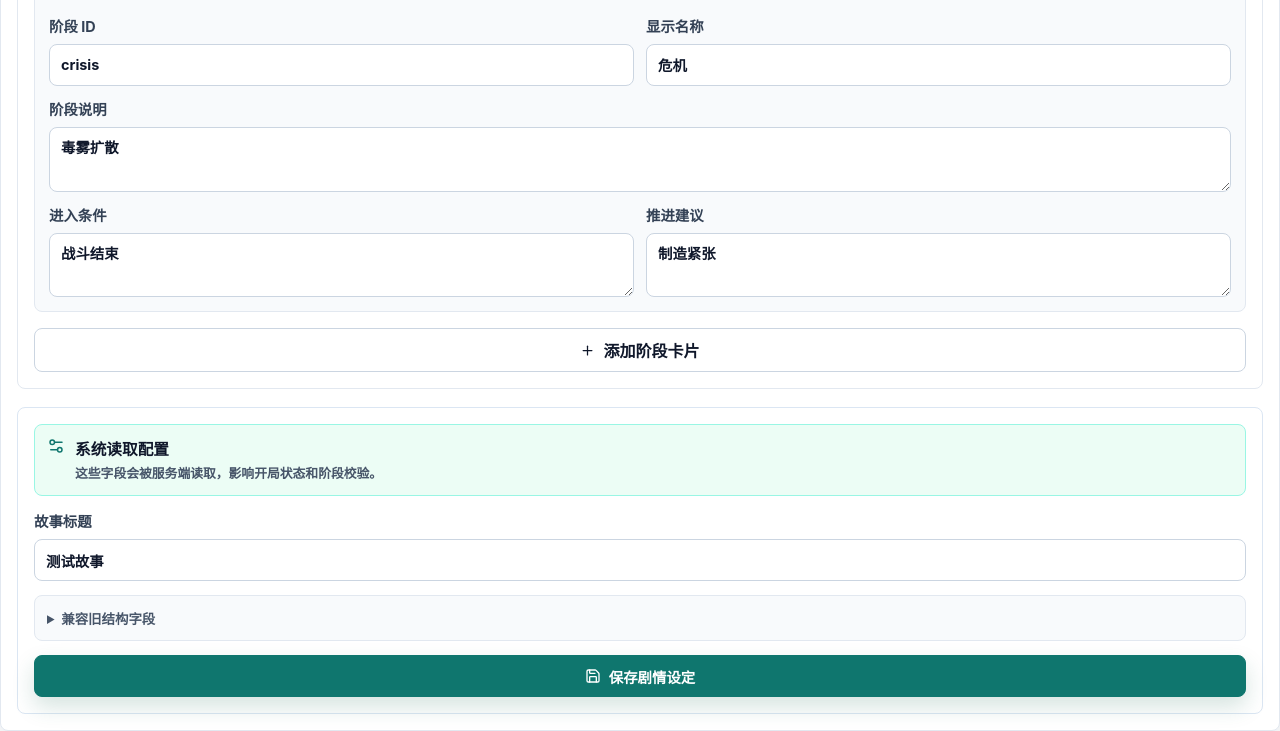
Test: StorySettingPanel › renders scenario title, premise, and currentGoal fields
(page scrolled)
Expected: the heading "系统读取配置" is shown, x1=75 y1=440 x2=169 y2=459
Expected: the field showing "测试故事" is shown, x1=34 y1=539 x2=1246 y2=581
Expand the legacy fields details
Click the heading "兼容旧结构字段".
click(108, 619)  # box x1=61 y1=611 x2=155 y2=627
(page scrolled)
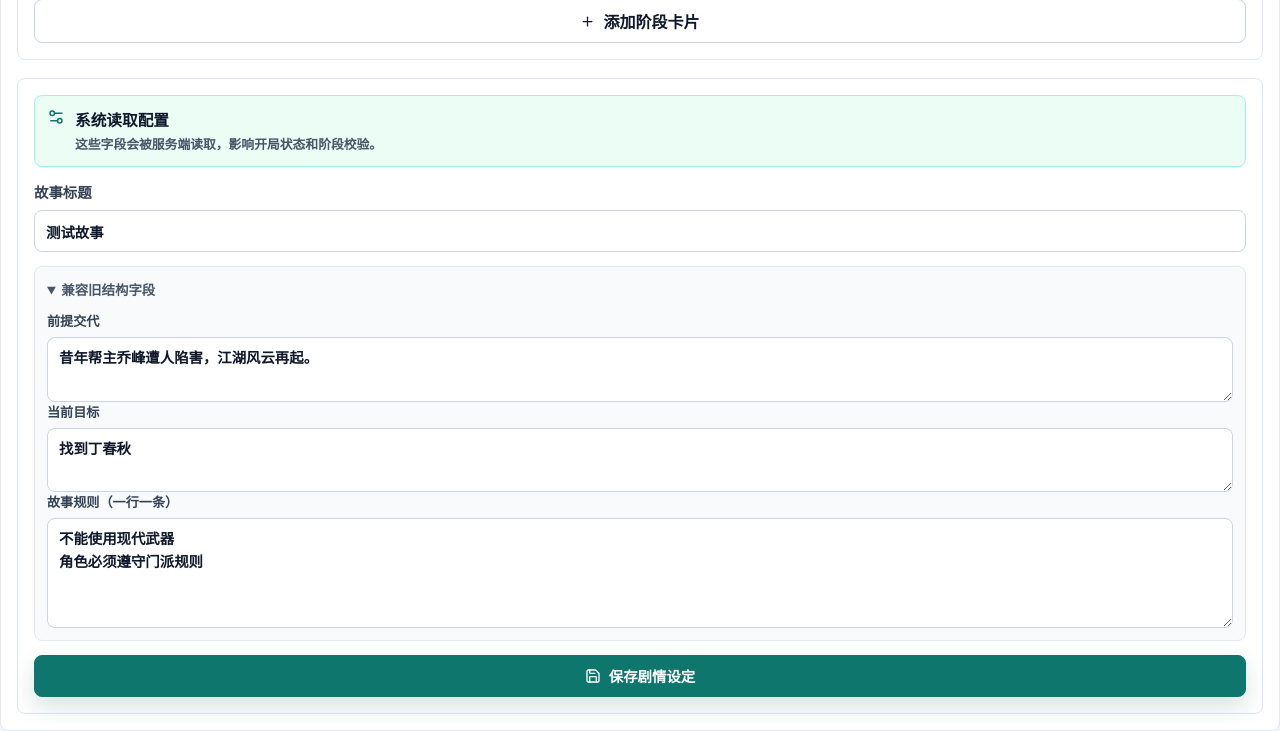
Now the text box showing "昔年帮主乔峰遭人陷害，江湖风云再起。" is shown, box x1=47 y1=337 x2=1233 y2=402
Now the text box showing "找到丁春秋" is shown, box x1=47 y1=428 x2=1233 y2=492
Now the text "故事规则（一行一条）" is shown, box x1=47 y1=494 x2=178 y2=510
